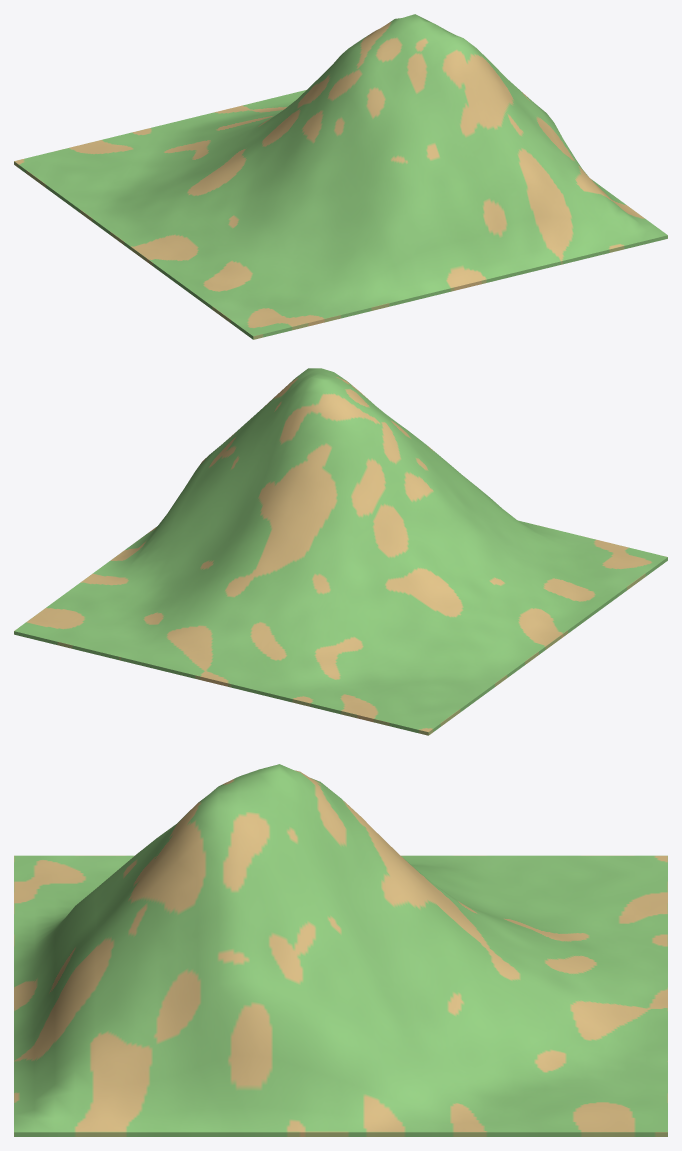
The model's file is Grass_Hills_06.obj.
The picture shows the model from 3 angles, top to bottom: view 1: azimuth 30°, elevation 25°; view 2: azimuth 150°, elevation 25°; view 3: azimuth 270°, elevation 25°; orthographic projection. The views are drawn at different scales.
Size of the model in its own units: 10 by 4.41 by 10.
Materials: 1 (1 with a texture image).
